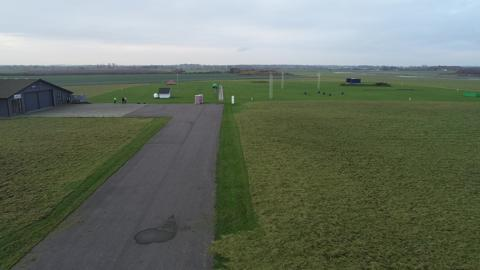RockwoolPallet: (198, 91, 205, 102)
